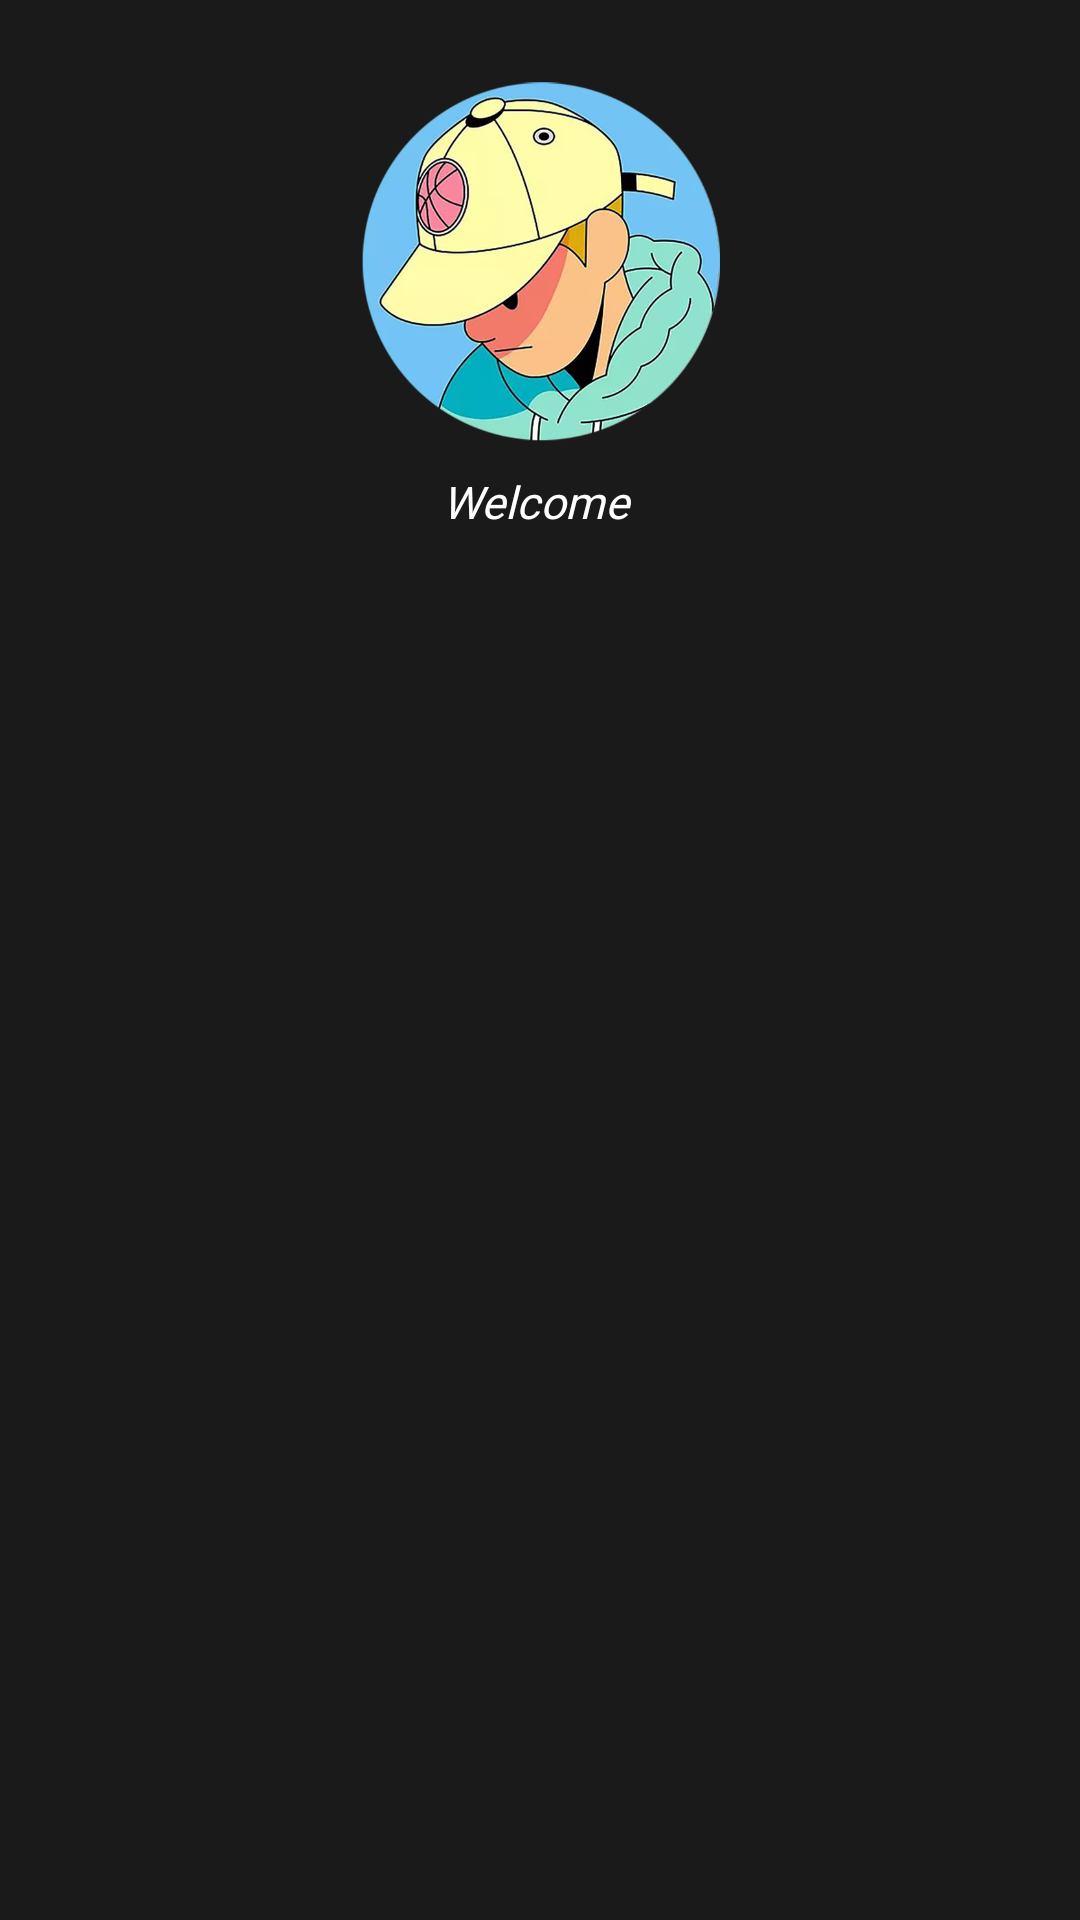

Icons on this 1080w x 1920h Android screen, each with the point to tap as (x=x, y=y):
avata: (x=541, y=261)
